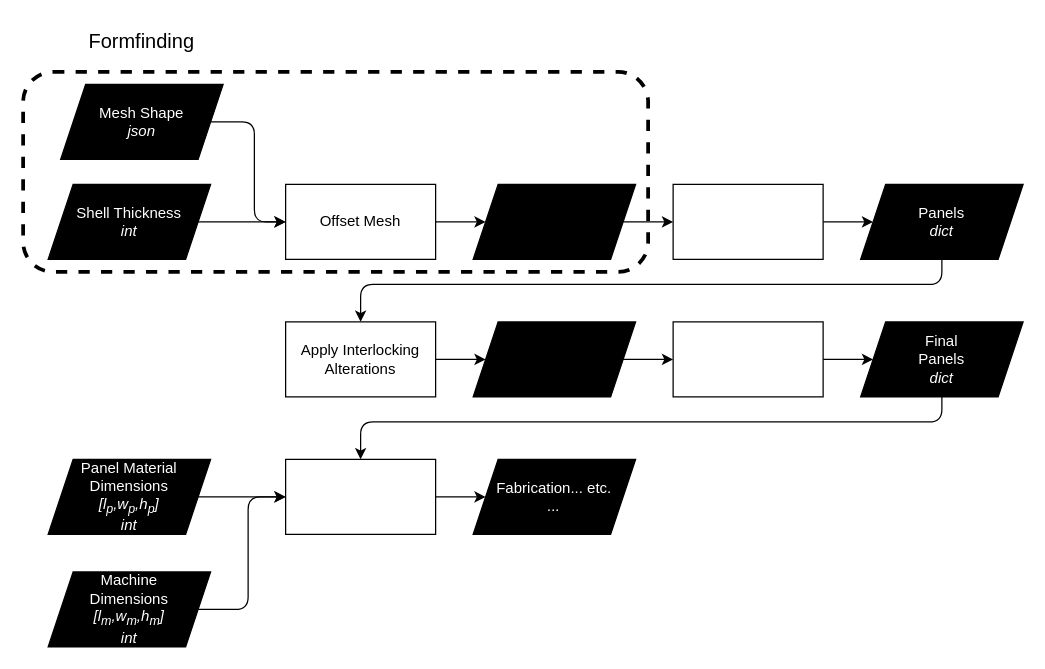
Image size: 1045x669. Some labels were removed from this diagram. Each missing label, with the centre of its shape:
"Discretize" belongs at (x=747, y=221).
"Interior Finish: Roughing Effect?" belongs at (x=747, y=359).
"Interlocking Panels dict" belongs at (x=554, y=359).
"Orient Panel(s) on Material and generate routing paths" belongs at (x=360, y=496).
"Shape dict" belongs at (x=554, y=221).
